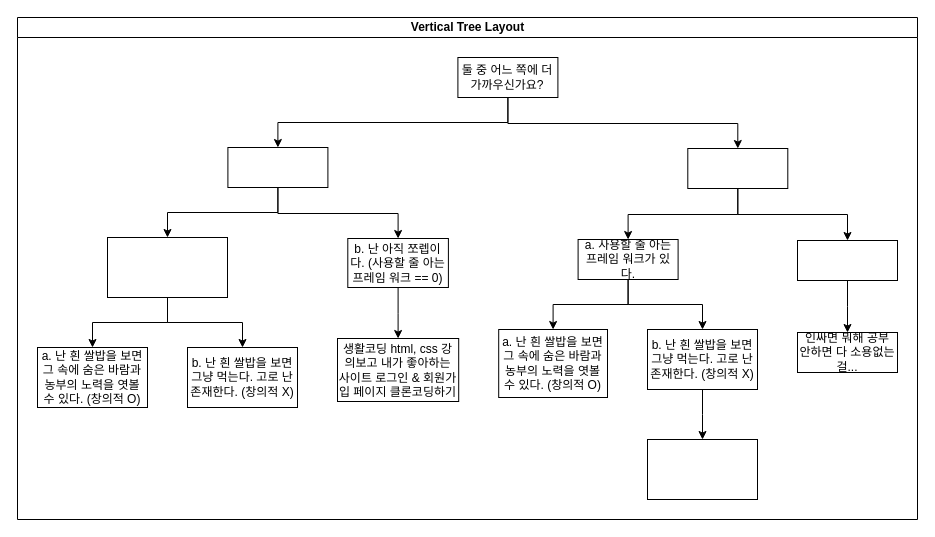
The diagram is 935 pixels wide and 537 high, and some of its shapes have lost their labels. The shapes that lost their labels are listed below. From the top down, each one's centre as x and y in pixels, then its label:
(x=277, y=167): a. 나는 오리지널 아싸이다.
(x=737, y=168): b. 나는 인싸라 프로젝트 함께 할 개발자 칭구들이 있다.
(x=167, y=267): a. 난 쪼렙은 그래도 벗어난 듯? (사용할 줄 아는 프레임 워크 > 0)
(x=847, y=260): b. 사용할 줄 아는 프레임 워크는 아직 없다.
(x=702, y=469): 내가 가고 싶은, 좋아하는 회사 사이트 클로닝 프로젝트!
